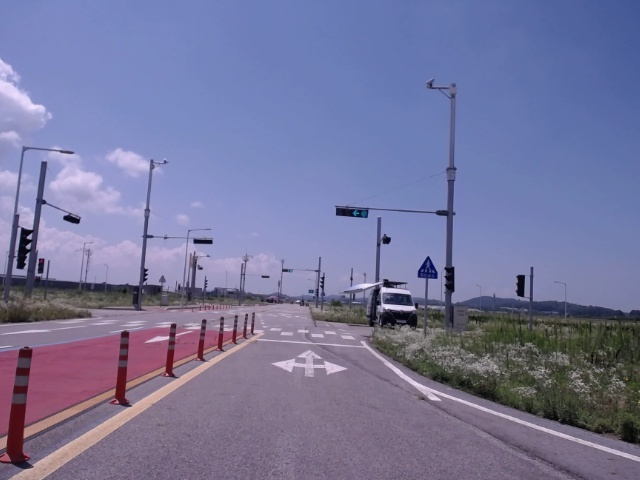all_green_4: (334, 208, 369, 219)
